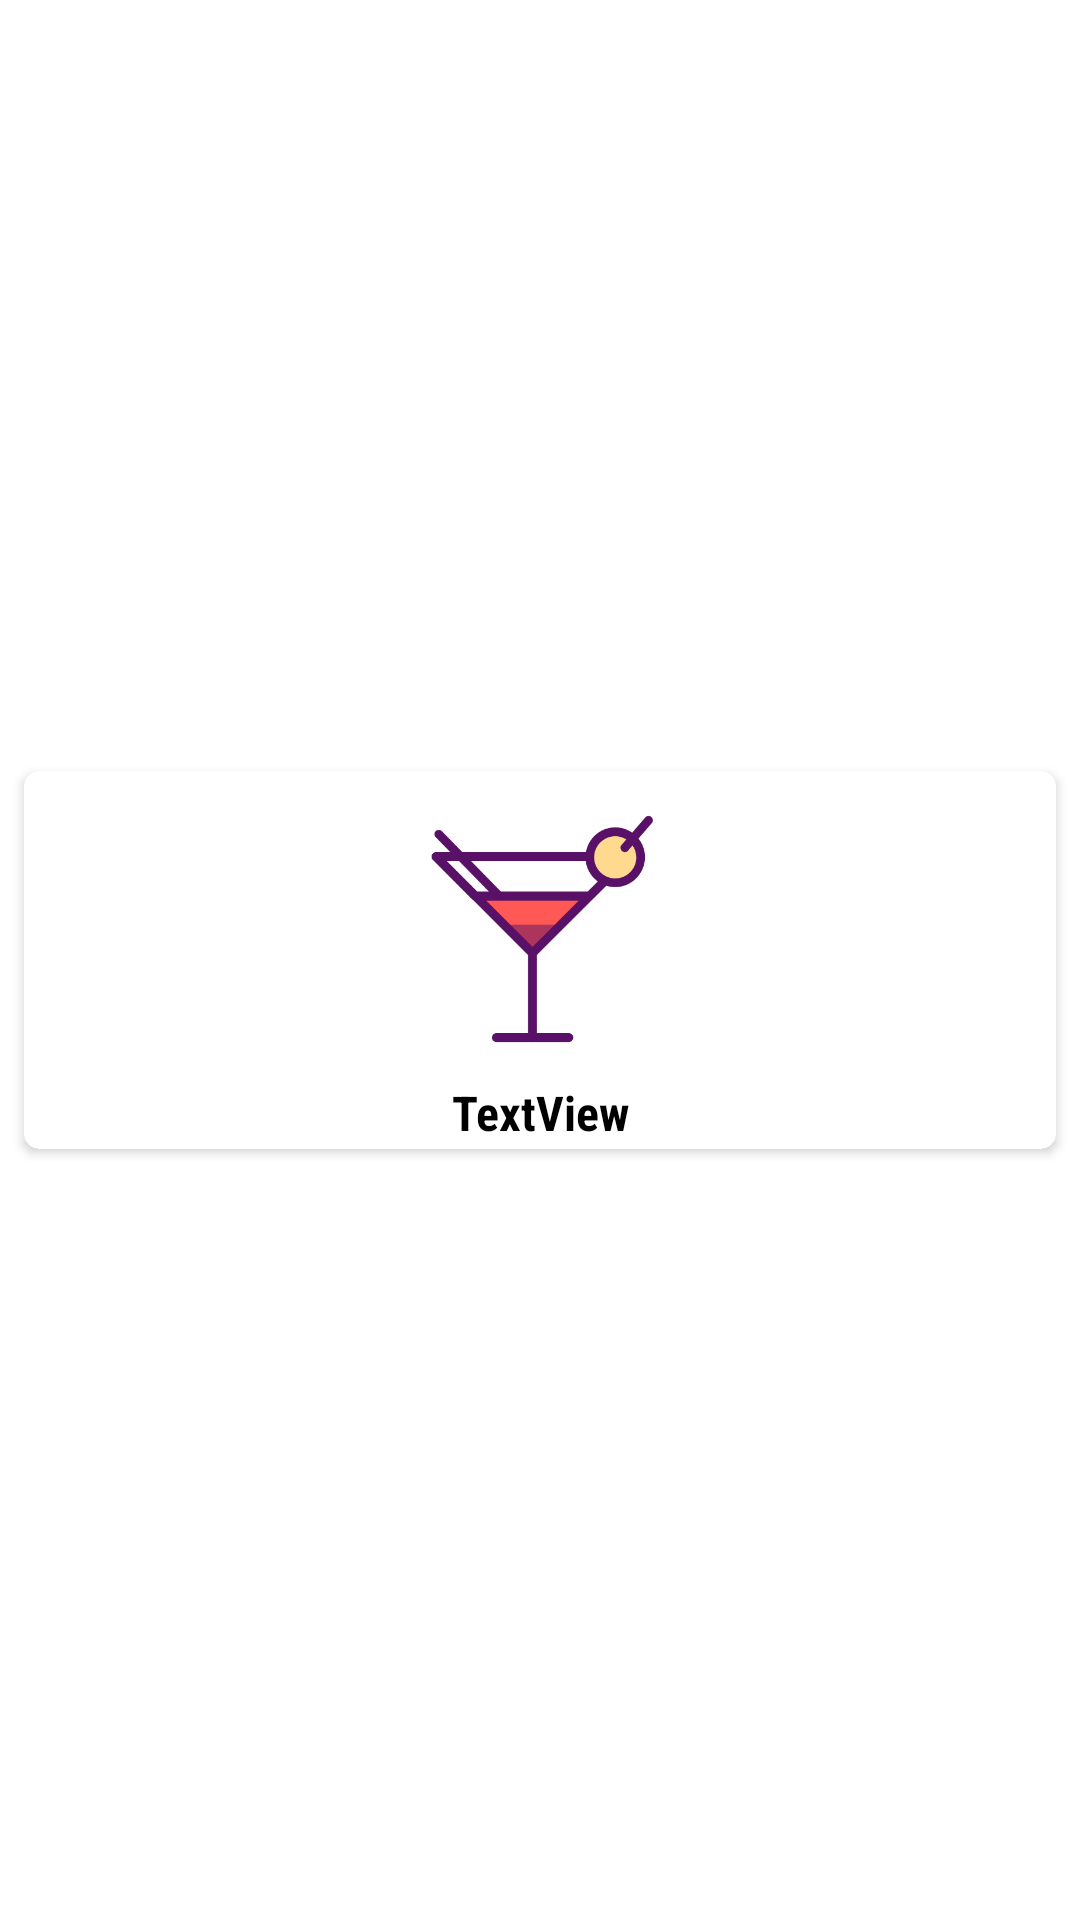

Screen size 1080 × 1920. Icon name, then its box in pixels as (x1, y1, x2, y2):
cocktail: (431, 816, 653, 1043)
